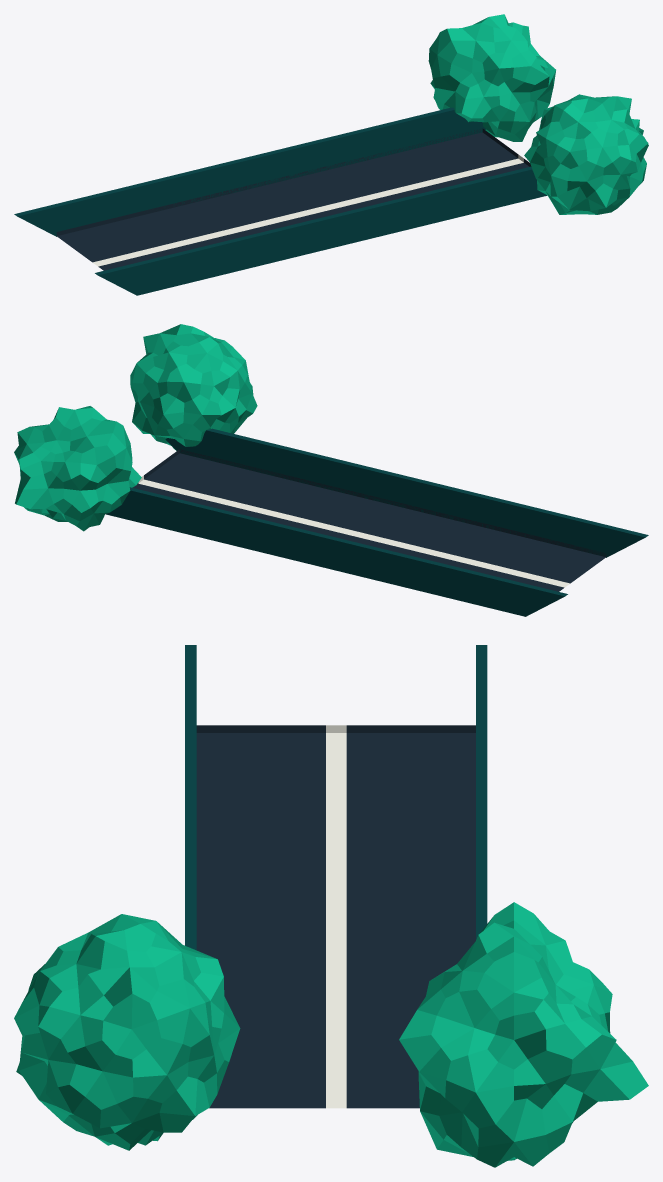
The model's file is Buildings_roadConnector.fbx.
3 views of the same model, one above another, from view 1: azimuth 30°, elevation 25°; view 2: azimuth 150°, elevation 25°; view 3: azimuth 270°, elevation 25° (orthographic). The views are drawn at different scales.
Parts seen in each view (by area): view 1: roadConnector; view 2: roadConnector; view 3: roadConnector.
Part boxes in pixels (x1,y1,x2,y2): roadConnector: [14, 14, 648, 295]; roadConnector: [14, 324, 648, 616]; roadConnector: [14, 645, 648, 1167].
Bounding box in the file's own units: 808 × 174 × 455.
